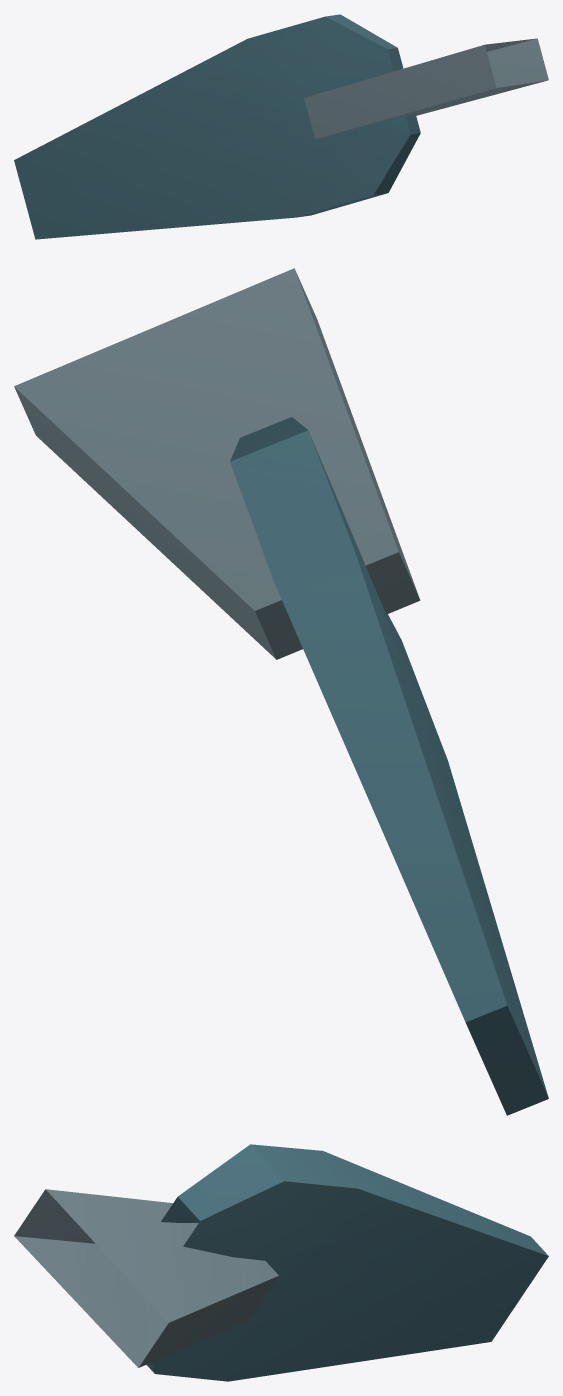
The model's file is Drone_009_wing_002.fbx.
The picture shows the model from 3 angles, top to bottom: view 1: azimuth 30°, elevation 25°; view 2: azimuth 150°, elevation 25°; view 3: azimuth 270°, elevation 25°; orthographic projection. The views are drawn at different scales.
Parts seen in each view (by area): view 1: Drone_009_wing_002; view 2: Drone_009_wing_002; view 3: Drone_009_wing_002.
Boxes of the visible parts, left/top/right/bottom form: Drone_009_wing_002: left=14, top=14, right=548, bottom=239; Drone_009_wing_002: left=14, top=268, right=548, bottom=1115; Drone_009_wing_002: left=14, top=1144, right=548, bottom=1381.
Size of the model in its own units: 21.23 by 18.81 by 12.94.
